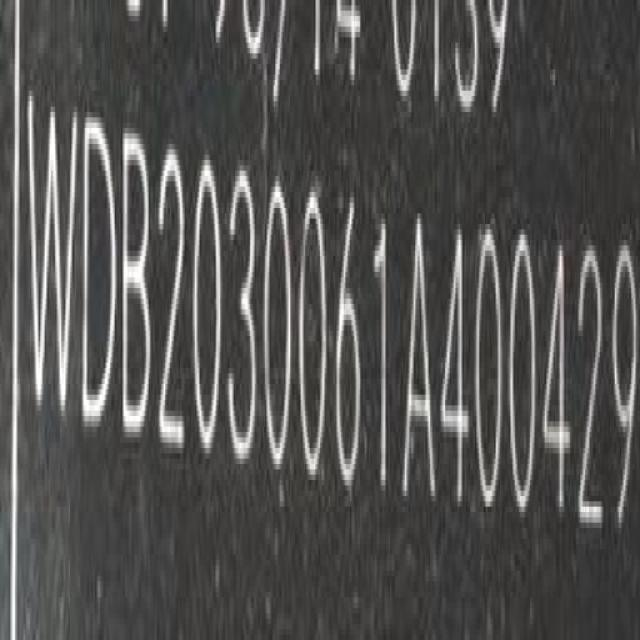0: (194, 154, 225, 468), (299, 188, 331, 491), (263, 179, 294, 484), (474, 221, 504, 524), (509, 227, 539, 528)
1: (372, 205, 392, 506)
2: (159, 141, 189, 462), (576, 238, 606, 540)
3: (227, 164, 258, 476)
4: (439, 214, 469, 516), (544, 238, 573, 540)
6: (336, 198, 367, 498)
9: (611, 238, 640, 543)
A: (403, 220, 436, 514)
B: (121, 124, 154, 446)
D: (84, 109, 120, 438)
W: (27, 96, 76, 436)
